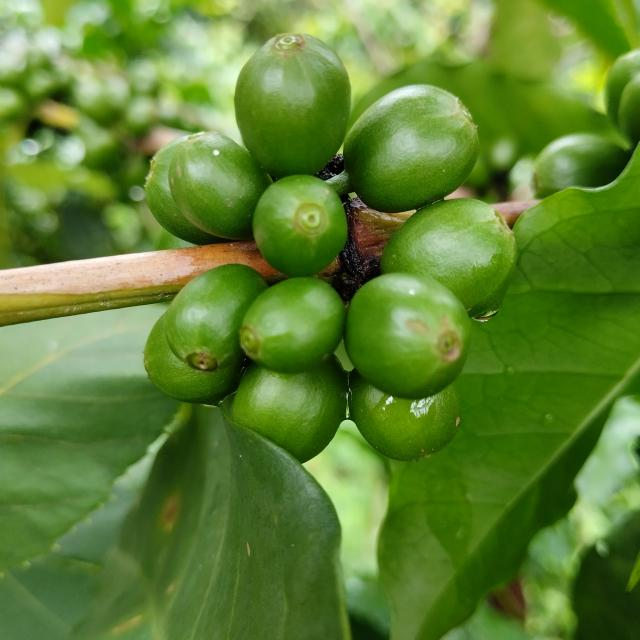green: (344, 84, 479, 212), (234, 32, 351, 178), (380, 198, 517, 318), (345, 273, 471, 399), (231, 355, 348, 463), (164, 264, 268, 372), (168, 131, 271, 240), (239, 277, 346, 374), (349, 370, 461, 462), (253, 175, 348, 277), (144, 135, 228, 245), (143, 314, 243, 405), (533, 133, 630, 198)
